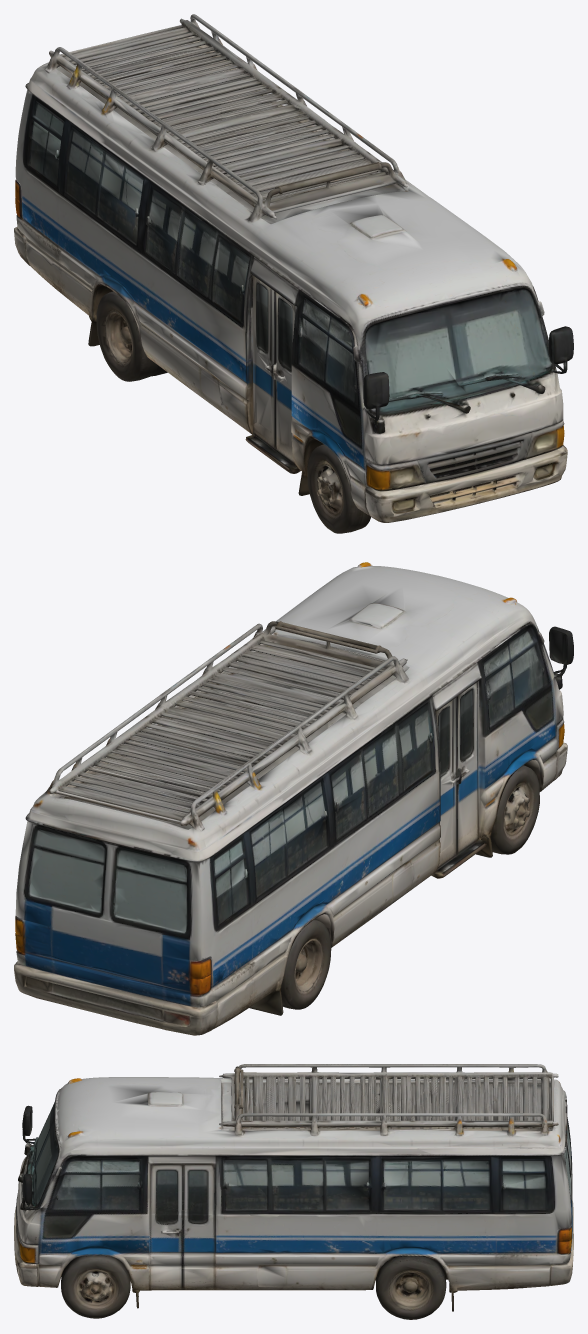
The model's file is car_minibus.glb.
3 views of the same model, one above another, from view 1: azimuth 30°, elevation 25°; view 2: azimuth 150°, elevation 25°; view 3: azimuth 270°, elevation 25° (orthographic). The views are drawn at different scales.
Parts seen in each view (by area): view 1: node_0; view 2: node_0; view 3: node_0.
Part boxes in pixels (x1=…): node_0: x1=14, y1=14, x2=573, y2=533; node_0: x1=14, y1=562, x2=573, y2=1035; node_0: x1=14, y1=1064, x2=573, y2=1319.
Size of the model in its own units: 0.3682 by 0.4492 by 1.14.
1 material, 1 textured.
